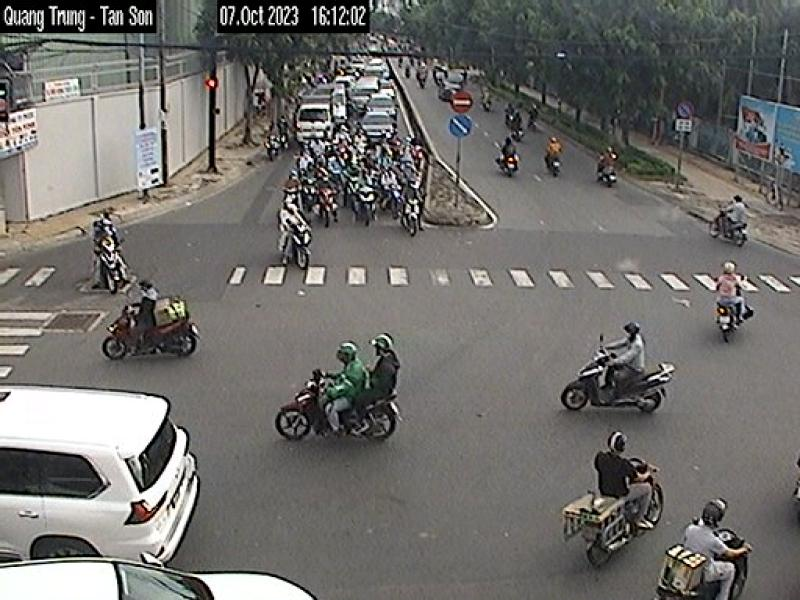car: (0, 383, 206, 573), (0, 555, 326, 600), (358, 108, 399, 142)
motorcycle: (536, 450, 689, 556), (86, 305, 212, 372), (560, 361, 676, 414), (62, 237, 144, 291), (276, 379, 337, 440), (279, 223, 311, 269)
truck: (292, 85, 340, 155)
